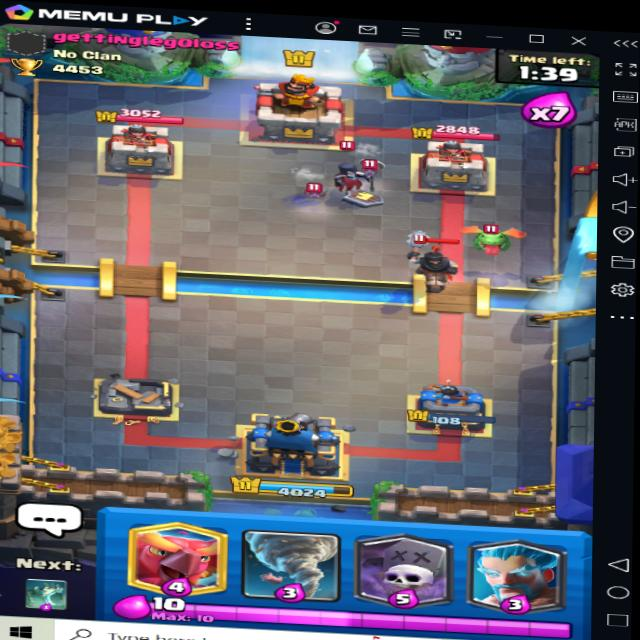baby-dragon: (466, 212, 527, 254)
bats: (300, 179, 331, 202), (355, 156, 381, 177)
dark-prince: (403, 221, 472, 282)
night-witch: (325, 142, 372, 196)
